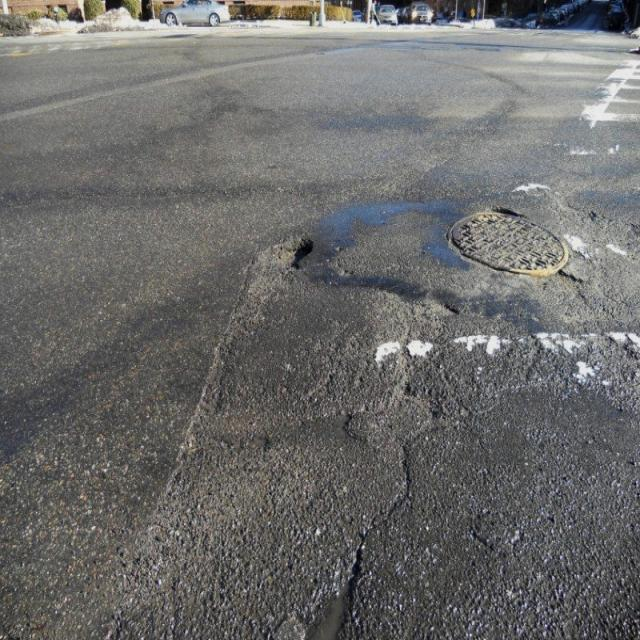Pothole: (386, 185, 581, 306)
